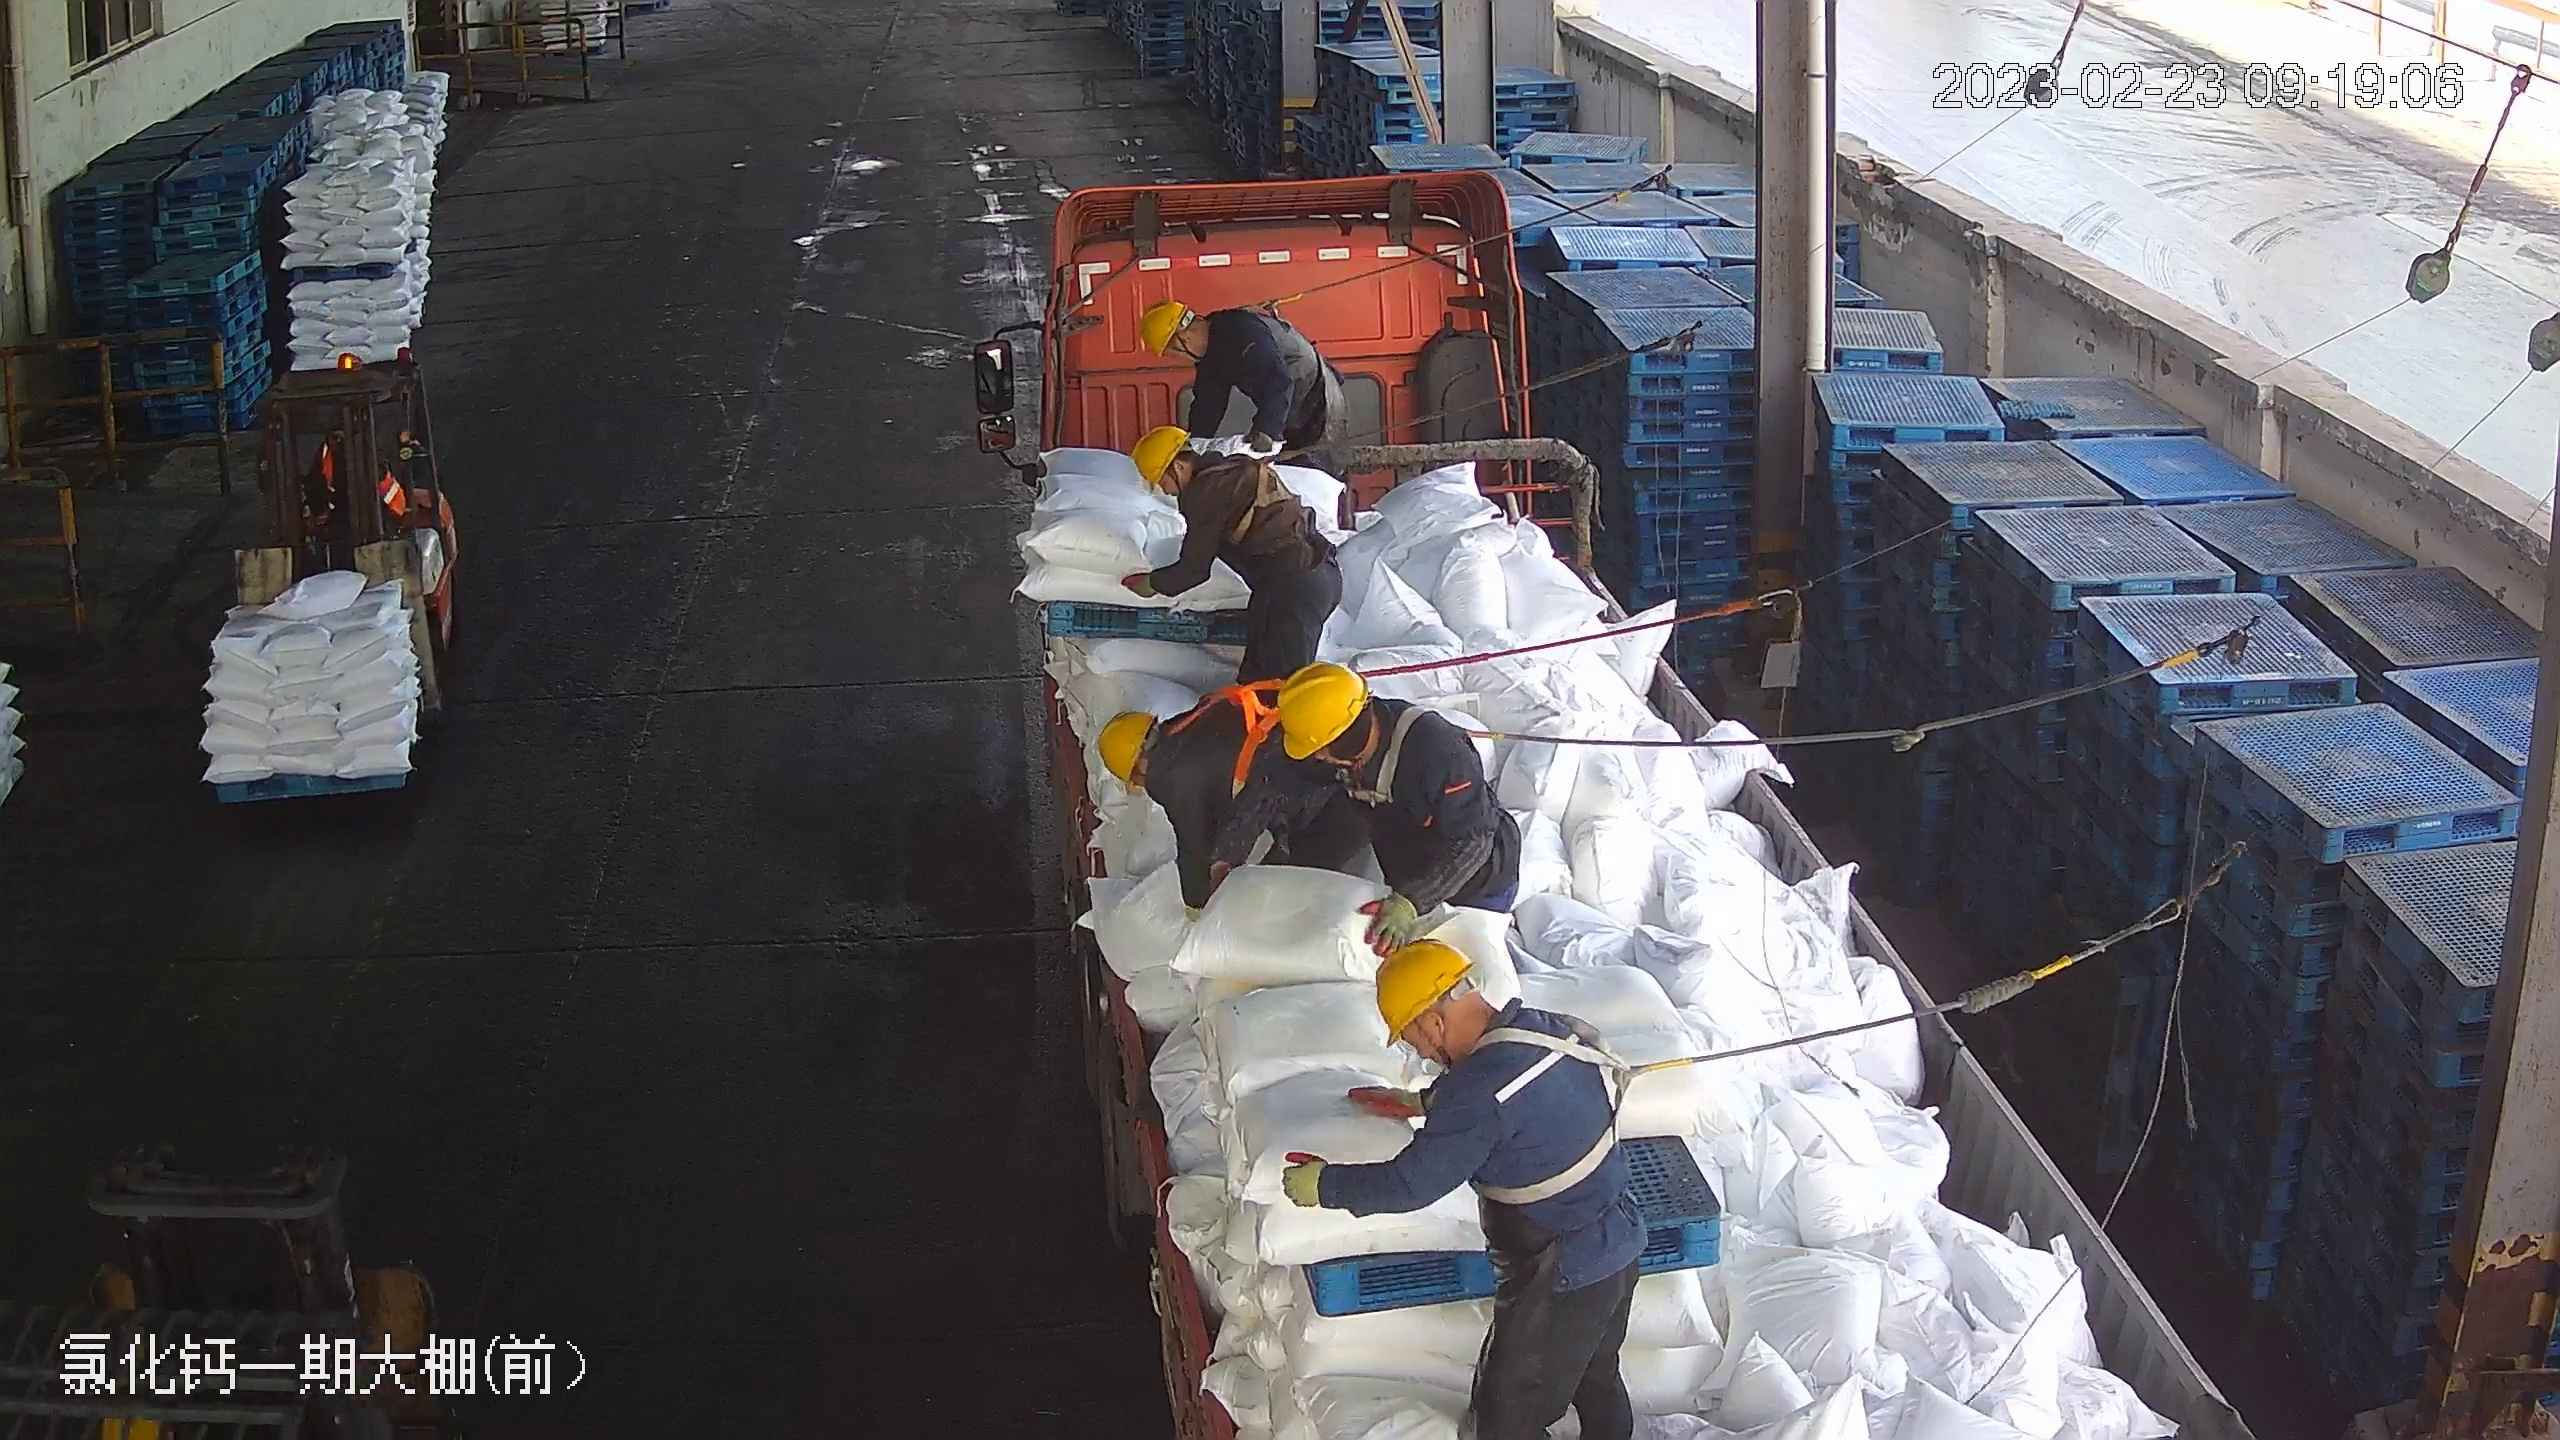belt: (1444, 1009, 1687, 1204), (1337, 703, 1509, 809), (1173, 680, 1283, 802), (1200, 451, 1320, 548), (1220, 295, 1308, 334)
head: (1373, 935, 1603, 1156), (1279, 661, 1470, 816), (1095, 700, 1237, 813), (1132, 425, 1264, 538), (1140, 298, 1272, 384)
helmet: (1374, 940, 1478, 1044), (1278, 660, 1365, 756), (1093, 706, 1151, 789), (1130, 423, 1191, 491), (1137, 298, 1188, 361)
people: (1281, 936, 1640, 1434), (1266, 669, 1515, 915), (1121, 422, 1345, 686), (1096, 688, 1318, 906), (1143, 294, 1344, 479)
truck: (977, 164, 2253, 1426)
